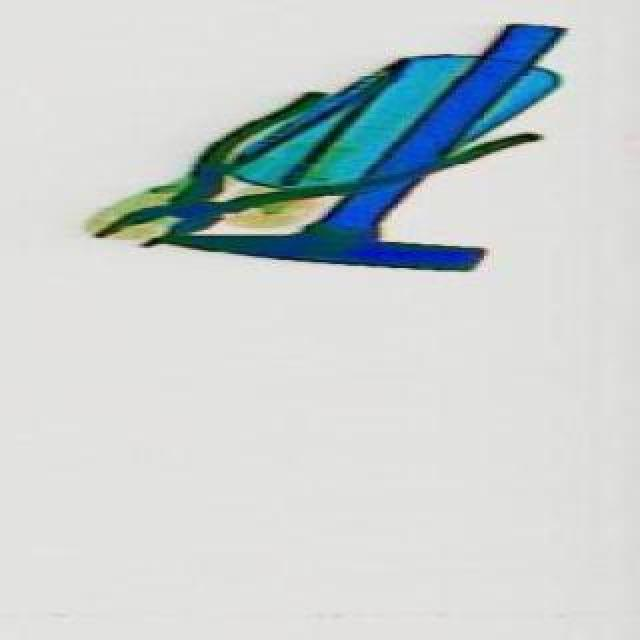wrench: (76, 24, 548, 312)
